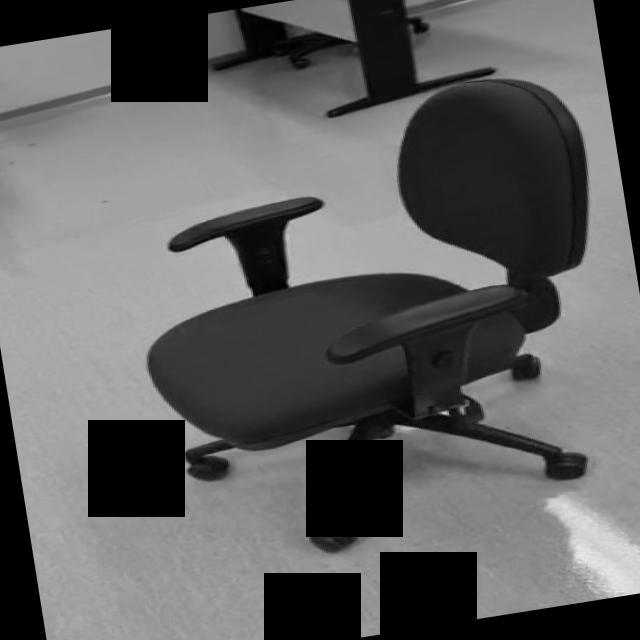chair: (111, 64, 640, 574)
